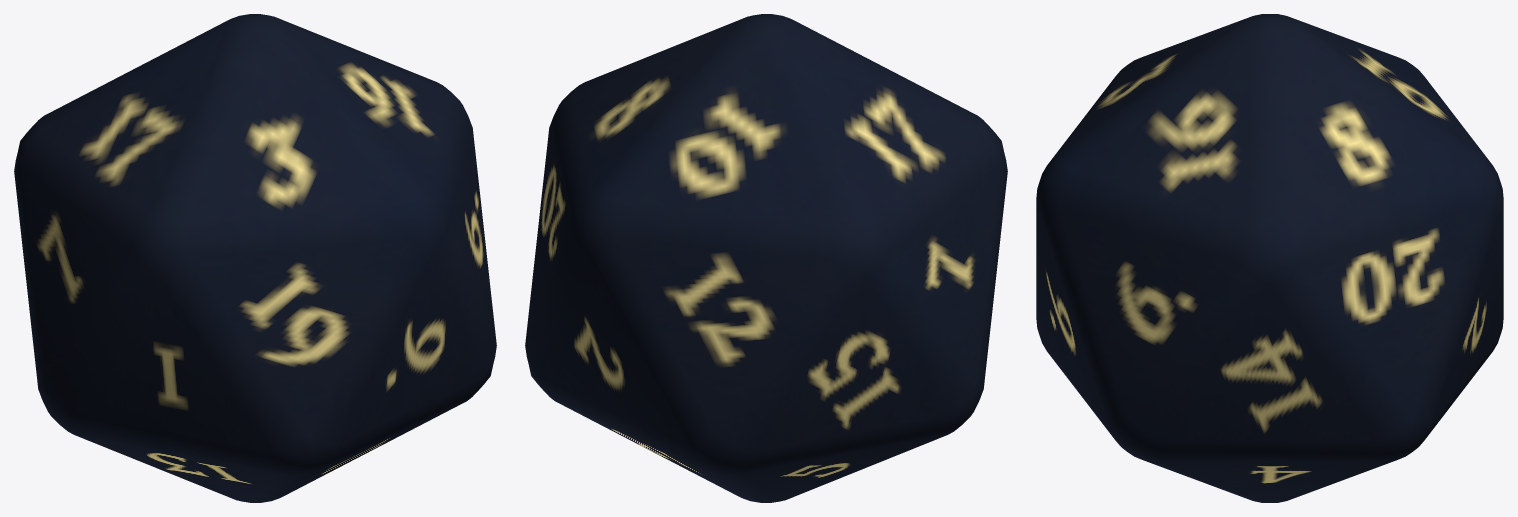
3 renders of one model, left to right at view 1: azimuth 30°, elevation 25°; view 2: azimuth 150°, elevation 25°; view 3: azimuth 270°, elevation 25°, orthographic.
Parts seen in each view (by area): view 1: D20_LP; view 2: D20_LP; view 3: D20_LP.
Boxes of the visible parts, <box> form: D20_LP: <box>14,14,496,502</box>; D20_LP: <box>525,14,1007,502</box>; D20_LP: <box>1036,14,1503,502</box>.
Bounding box in the file's own units: 0.0122 × 0.0133 × 0.0117.
1 material, 1 textured.
